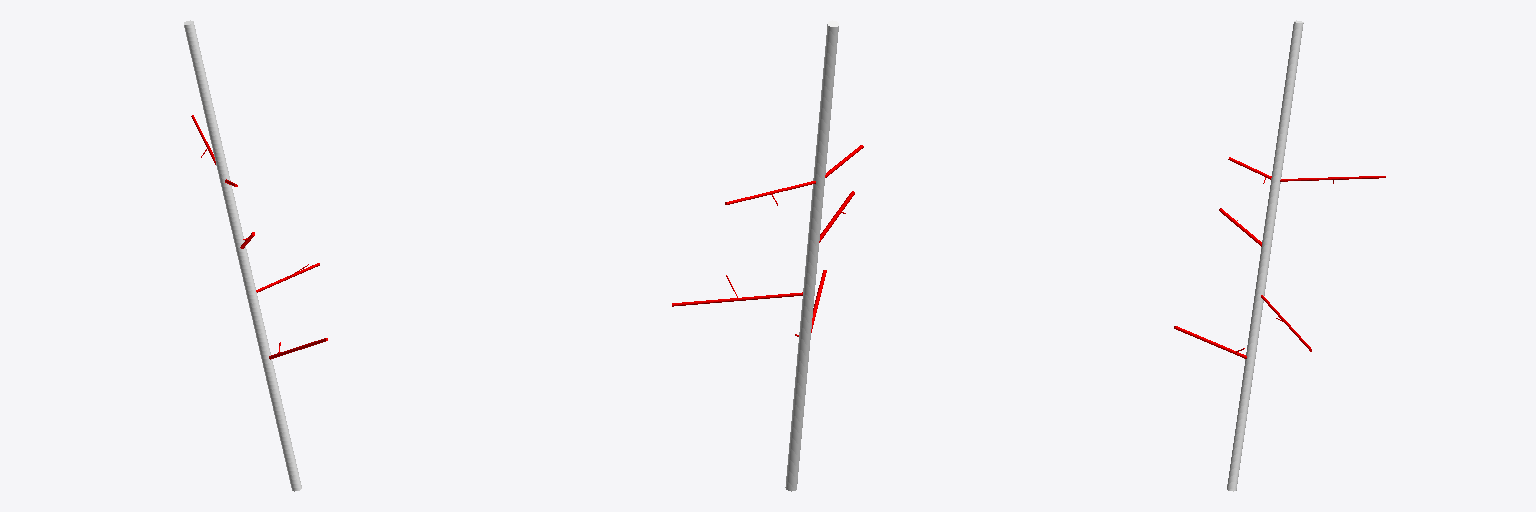
robot.urdf — tree_197.urdf:
<?xml version='1.0' encoding='UTF-8'?>
<robot name="tree_197.urdf">
  <link name="branch_0">
    <inertial>
      <origin xyz="0.0 0.0 0.0" rpy="0.0 -0.0 0.0"/>
      <mass value="0.1"/>
      <inertia ixx="0.001" ixy="0.0" ixz="0.0" iyy="0.001" iyz="0.0" izz="0.001"/>
    </inertial>
    <visual name="branch_0_visual">
      <geometry>
        <cylinder radius="0.10870780218469173" length="10.798982676588977"/>
      </geometry>
      <material name="branch_material"/>
      <origin xyz="-0.8799532668421212 0.738915906608951 5.275811998493819" rpy="0.0 0.214446835683096 2.443095983993758"/>
    </visual>
    <collision name="branch_0_collision">
      <geometry>
        <cylinder radius="0.10870780218469173" length="10.798982676588977"/>
      </geometry>
      <origin xyz="-0.8799532668421212 0.738915906608951 5.275811998493819" rpy="0.0 0.214446835683096 2.443095983993758"/>
    </collision>
  </link>
  <link name="branch_1">
    <inertial>
      <origin xyz="0.0 0.0 0.0" rpy="0.0 -0.0 0.0"/>
      <mass value="0.1"/>
      <inertia ixx="0.001" ixy="0.0" ixz="0.0" iyy="0.001" iyz="0.0" izz="0.001"/>
    </inertial>
    <visual name="branch_1_visual">
      <geometry>
        <cylinder radius="0.03804217934969056" length="2.0097635052852274"/>
      </geometry>
      <material name="semantic_material"/>
      <origin xyz="0.0 0.0 0.0" rpy="0.0 -0.0 0.0"/>
    </visual>
    <collision name="branch_1_collision">
      <geometry>
        <cylinder radius="0.03804217934969056" length="2.0097635052852274"/>
      </geometry>
      <origin xyz="0.0 0.0 0.0" rpy="0.0 -0.0 0.0"/>
    </collision>
  </link>
  <link name="branch_2">
    <inertial>
      <origin xyz="0.0 0.0 0.0" rpy="0.0 -0.0 0.0"/>
      <mass value="0.1"/>
      <inertia ixx="0.001" ixy="0.0" ixz="0.0" iyy="0.001" iyz="0.0" izz="0.001"/>
    </inertial>
    <visual name="branch_2_visual">
      <geometry>
        <cylinder radius="0.014666818572599417" length="0.30252285322587213"/>
      </geometry>
      <material name="semantic_material"/>
      <origin xyz="0.0 0.0 0.0" rpy="0.0 -0.0 0.0"/>
    </visual>
    <collision name="branch_2_collision">
      <geometry>
        <cylinder radius="0.014666818572599417" length="0.30252285322587213"/>
      </geometry>
      <origin xyz="0.0 0.0 0.0" rpy="0.0 -0.0 0.0"/>
    </collision>
  </link>
  <link name="branch_3">
    <inertial>
      <origin xyz="0.0 0.0 0.0" rpy="0.0 -0.0 0.0"/>
      <mass value="0.1"/>
      <inertia ixx="0.001" ixy="0.0" ixz="0.0" iyy="0.001" iyz="0.0" izz="0.001"/>
    </inertial>
    <visual name="branch_3_visual">
      <geometry>
        <cylinder radius="0.035719544869647096" length="1.1515556389705195"/>
      </geometry>
      <material name="semantic_material"/>
      <origin xyz="0.0 0.0 0.0" rpy="0.0 -0.0 0.0"/>
    </visual>
    <collision name="branch_3_collision">
      <geometry>
        <cylinder radius="0.035719544869647096" length="1.1515556389705195"/>
      </geometry>
      <origin xyz="0.0 0.0 0.0" rpy="0.0 -0.0 0.0"/>
    </collision>
  </link>
  <link name="branch_4">
    <inertial>
      <origin xyz="0.0 0.0 0.0" rpy="0.0 -0.0 0.0"/>
      <mass value="0.1"/>
      <inertia ixx="0.001" ixy="0.0" ixz="0.0" iyy="0.001" iyz="0.0" izz="0.001"/>
    </inertial>
    <visual name="branch_4_visual">
      <geometry>
        <cylinder radius="0.01" length="0.20109174045024597"/>
      </geometry>
      <material name="semantic_material"/>
      <origin xyz="0.0 0.0 0.0" rpy="0.0 -0.0 0.0"/>
    </visual>
    <collision name="branch_4_collision">
      <geometry>
        <cylinder radius="0.01" length="0.20109174045024597"/>
      </geometry>
      <origin xyz="0.0 0.0 0.0" rpy="0.0 -0.0 0.0"/>
    </collision>
  </link>
  <link name="branch_5">
    <inertial>
      <origin xyz="0.0 0.0 0.0" rpy="0.0 -0.0 0.0"/>
      <mass value="0.1"/>
      <inertia ixx="0.001" ixy="0.0" ixz="0.0" iyy="0.001" iyz="0.0" izz="0.001"/>
    </inertial>
    <visual name="branch_5_visual">
      <geometry>
        <cylinder radius="0.04003220833590822" length="1.3436845366914605"/>
      </geometry>
      <material name="semantic_material"/>
      <origin xyz="0.0 0.0 0.0" rpy="0.0 -0.0 0.0"/>
    </visual>
    <collision name="branch_5_collision">
      <geometry>
        <cylinder radius="0.04003220833590822" length="1.3436845366914605"/>
      </geometry>
      <origin xyz="0.0 0.0 0.0" rpy="0.0 -0.0 0.0"/>
    </collision>
  </link>
  <link name="branch_6">
    <inertial>
      <origin xyz="0.0 0.0 0.0" rpy="0.0 -0.0 0.0"/>
      <mass value="0.1"/>
      <inertia ixx="0.001" ixy="0.0" ixz="0.0" iyy="0.001" iyz="0.0" izz="0.001"/>
    </inertial>
    <visual name="branch_6_visual">
      <geometry>
        <cylinder radius="0.014661940434499763" length="0.140758162943096"/>
      </geometry>
      <material name="semantic_material"/>
      <origin xyz="0.0 0.0 0.0" rpy="0.0 -0.0 0.0"/>
    </visual>
    <collision name="branch_6_collision">
      <geometry>
        <cylinder radius="0.014661940434499763" length="0.140758162943096"/>
      </geometry>
      <origin xyz="0.0 0.0 0.0" rpy="0.0 -0.0 0.0"/>
    </collision>
  </link>
  <link name="branch_7">
    <inertial>
      <origin xyz="0.0 0.0 0.0" rpy="0.0 -0.0 0.0"/>
      <mass value="0.1"/>
      <inertia ixx="0.001" ixy="0.0" ixz="0.0" iyy="0.001" iyz="0.0" izz="0.001"/>
    </inertial>
    <visual name="branch_7_visual">
      <geometry>
        <cylinder radius="0.031089175956832905" length="2.5681746619922983"/>
      </geometry>
      <material name="semantic_material"/>
      <origin xyz="0.0 0.0 0.0" rpy="0.0 -0.0 0.0"/>
    </visual>
    <collision name="branch_7_collision">
      <geometry>
        <cylinder radius="0.031089175956832905" length="2.5681746619922983"/>
      </geometry>
      <origin xyz="0.0 0.0 0.0" rpy="0.0 -0.0 0.0"/>
    </collision>
  </link>
  <link name="branch_8">
    <inertial>
      <origin xyz="0.0 0.0 0.0" rpy="0.0 -0.0 0.0"/>
      <mass value="0.1"/>
      <inertia ixx="0.001" ixy="0.0" ixz="0.0" iyy="0.001" iyz="0.0" izz="0.001"/>
    </inertial>
    <visual name="branch_8_visual">
      <geometry>
        <cylinder radius="0.01" length="0.5596708587232794"/>
      </geometry>
      <material name="semantic_material"/>
      <origin xyz="0.0 0.0 0.0" rpy="0.0 -0.0 0.0"/>
    </visual>
    <collision name="branch_8_collision">
      <geometry>
        <cylinder radius="0.01" length="0.5596708587232794"/>
      </geometry>
      <origin xyz="0.0 0.0 0.0" rpy="0.0 -0.0 0.0"/>
    </collision>
  </link>
  <link name="branch_9">
    <inertial>
      <origin xyz="0.0 0.0 0.0" rpy="0.0 -0.0 0.0"/>
      <mass value="0.1"/>
      <inertia ixx="0.001" ixy="0.0" ixz="0.0" iyy="0.001" iyz="0.0" izz="0.001"/>
    </inertial>
    <visual name="branch_9_visual">
      <geometry>
        <cylinder radius="0.029559565949275977" length="2.5204083145999956"/>
      </geometry>
      <material name="semantic_material"/>
      <origin xyz="0.0 0.0 0.0" rpy="0.0 -0.0 0.0"/>
    </visual>
    <collision name="branch_9_collision">
      <geometry>
        <cylinder radius="0.029559565949275977" length="2.5204083145999956"/>
      </geometry>
      <origin xyz="0.0 0.0 0.0" rpy="0.0 -0.0 0.0"/>
    </collision>
  </link>
  <link name="branch_10">
    <inertial>
      <origin xyz="0.0 0.0 0.0" rpy="0.0 -0.0 0.0"/>
      <mass value="0.1"/>
      <inertia ixx="0.001" ixy="0.0" ixz="0.0" iyy="0.001" iyz="0.0" izz="0.001"/>
    </inertial>
    <visual name="branch_10_visual">
      <geometry>
        <cylinder radius="0.010992498004595338" length="0.2671873440702033"/>
      </geometry>
      <material name="semantic_material"/>
      <origin xyz="0.0 0.0 0.0" rpy="0.0 -0.0 0.0"/>
    </visual>
    <collision name="branch_10_collision">
      <geometry>
        <cylinder radius="0.010992498004595338" length="0.2671873440702033"/>
      </geometry>
      <origin xyz="0.0 0.0 0.0" rpy="0.0 -0.0 0.0"/>
    </collision>
  </link>
  <joint name="joint_0_1" type="fixed">
    <parent link="branch_0"/>
    <child link="branch_1"/>
    <axis xyz="1. 0. 0."/>
    <origin xyz="-0.2472906248012291 -0.42085483056887935 3.4541072805426527" rpy="0.21246244605128572 1.031599490538445 -1.0391169864161203"/>
  </joint>
  <joint name="joint_0_3" type="fixed">
    <parent link="branch_0"/>
    <child link="branch_3"/>
    <axis xyz="1. 0. 0."/>
    <origin xyz="-1.332483398692984 0.46037555637843075 7.168724678780176" rpy="0.5300180457468896 1.180652087122511 -1.3207160039587436"/>
  </joint>
  <joint name="joint_0_5" type="fixed">
    <parent link="branch_0"/>
    <child link="branch_5"/>
    <axis xyz="1. 0. 0."/>
    <origin xyz="-1.0527856621666976 0.25004633459653036 5.854329932002687" rpy="0.2884176272678579 0.8816084470215588 -1.4788661464217698"/>
  </joint>
  <joint name="joint_0_7" type="fixed">
    <parent link="branch_0"/>
    <child link="branch_7"/>
    <axis xyz="1. 0. 0."/>
    <origin xyz="0.4042821768577468 1.186227210538226 4.267414753996808" rpy="-2.116894408438296 1.337325547381925 -1.6438919569947636"/>
  </joint>
  <joint name="joint_0_9" type="fixed">
    <parent link="branch_0"/>
    <child link="branch_9"/>
    <axis xyz="1. 0. 0."/>
    <origin xyz="-0.8608294493433959 2.18632480136211 7.161494970407189" rpy="-0.9247972468540557 1.3244315222860459 0.38597798614076173"/>
  </joint>
  <joint name="joint_1_2" type="fixed">
    <parent link="branch_0"/>
    <child link="branch_2"/>
    <axis xyz="1. 0. 0."/>
    <origin xyz="-0.3197638896844735 0.17837319168239374 3.238383387413821" rpy="0.7863108156659012 0.6281301368758465 1.9709020061830202"/>
  </joint>
  <joint name="joint_3_4" type="fixed">
    <parent link="branch_0"/>
    <child link="branch_4"/>
    <axis xyz="1. 0. 0."/>
    <origin xyz="-1.1581012971223419 0.7338690546493661 6.999941679144368" rpy="2.2208877602144086 0.22577243428504204 1.4111546518524027"/>
  </joint>
  <joint name="joint_5_6" type="fixed">
    <parent link="branch_0"/>
    <child link="branch_6"/>
    <axis xyz="1. 0. 0."/>
    <origin xyz="-1.1653399146896446 0.1103203189935064 5.982115248823669" rpy="-1.571951618864022 0.6556705735338387 1.278127690183828"/>
  </joint>
  <joint name="joint_7_8" type="fixed">
    <parent link="branch_0"/>
    <child link="branch_8"/>
    <axis xyz="1. 0. 0."/>
    <origin xyz="0.6382972447343483 1.0874672175776645 4.420018205012819" rpy="-0.9228142834455826 -0.37641778032196643 -2.36283329869187"/>
  </joint>
  <joint name="joint_9_10" type="fixed">
    <parent link="branch_0"/>
    <child link="branch_10"/>
    <axis xyz="1. 0. 0."/>
    <origin xyz="-0.9335585670576635 2.240672836135465 7.064298096952765" rpy="2.45959480624353 0.007823666368754058 -1.7016930595085928"/>
  </joint>
  <material name="branch_material">
    <color rgba="1. 1. 1. 1."/>
  </material>
  <material name="semantic_material">
    <color rgba="1. 0. 0. 1."/>
  </material>
</robot>

--- Facts derived from the render (not from the file) ---
The picture shows the robot from 3 angles, left to right: view 1: azimuth 30°, elevation 25°; view 2: azimuth 150°, elevation 25°; view 3: azimuth 270°, elevation 25°; orthographic projection.
Robot: tree_197.urdf — 11 links, 10 joints (10 fixed); root link branch_0; default pose: every joint at zero.
Visible links, largest first — view 1: branch_0; view 2: branch_0; view 3: branch_0.
Link boxes in pixels (box(x1,y1,x2,y2)): branch_0: box(184, 20, 301, 491); branch_0: box(785, 20, 838, 491); branch_0: box(1227, 20, 1303, 491).
Size in the robot's own frame: 3.43 by 4.68 by 10.6 metres.
Geometry: primitives only (box / cylinder / sphere), no mesh files.
